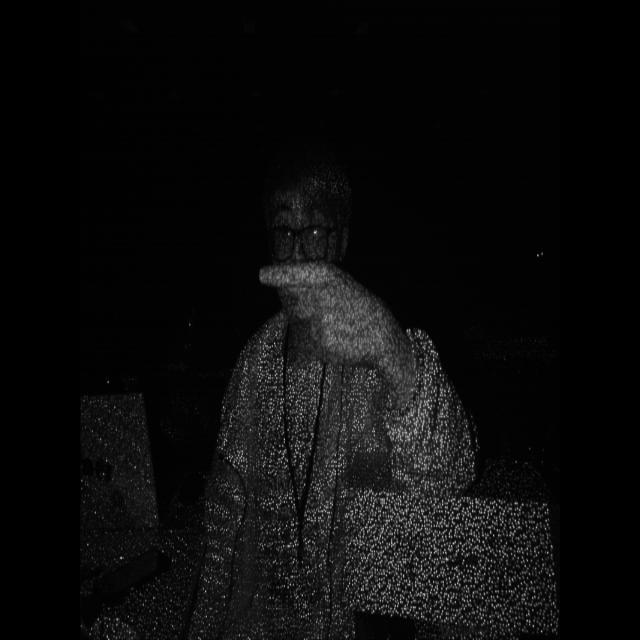G: (249, 255, 423, 402)
